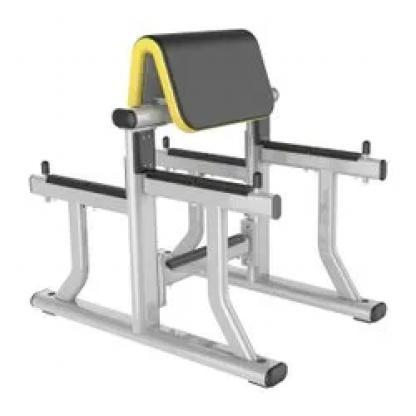arm curl machine: (28, 28, 389, 388)
